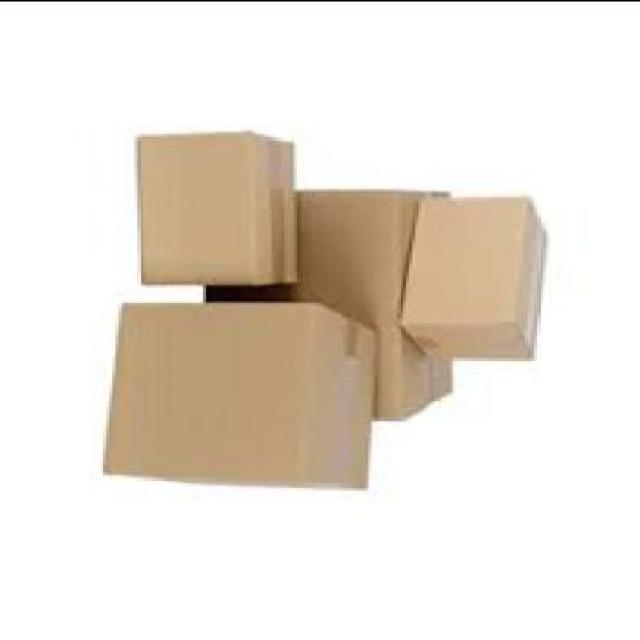CARDBOARD: (206, 187, 459, 416), (104, 294, 381, 486), (137, 130, 300, 284), (402, 193, 553, 356)
